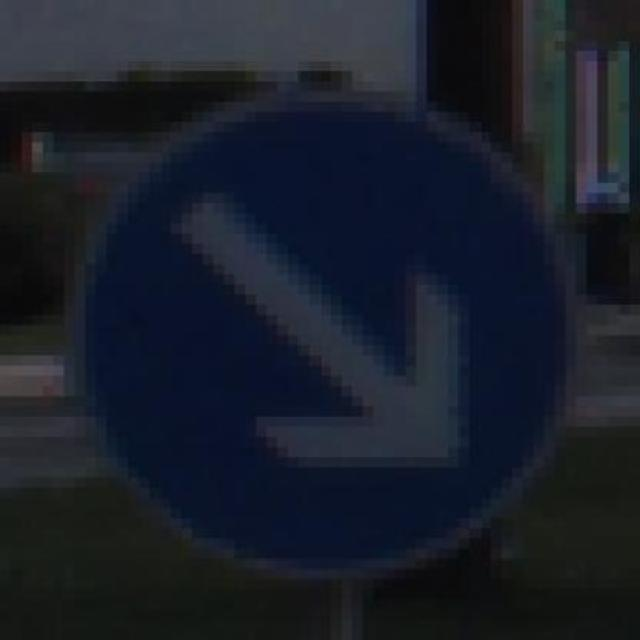Keep-Right: (75, 71, 587, 589)
